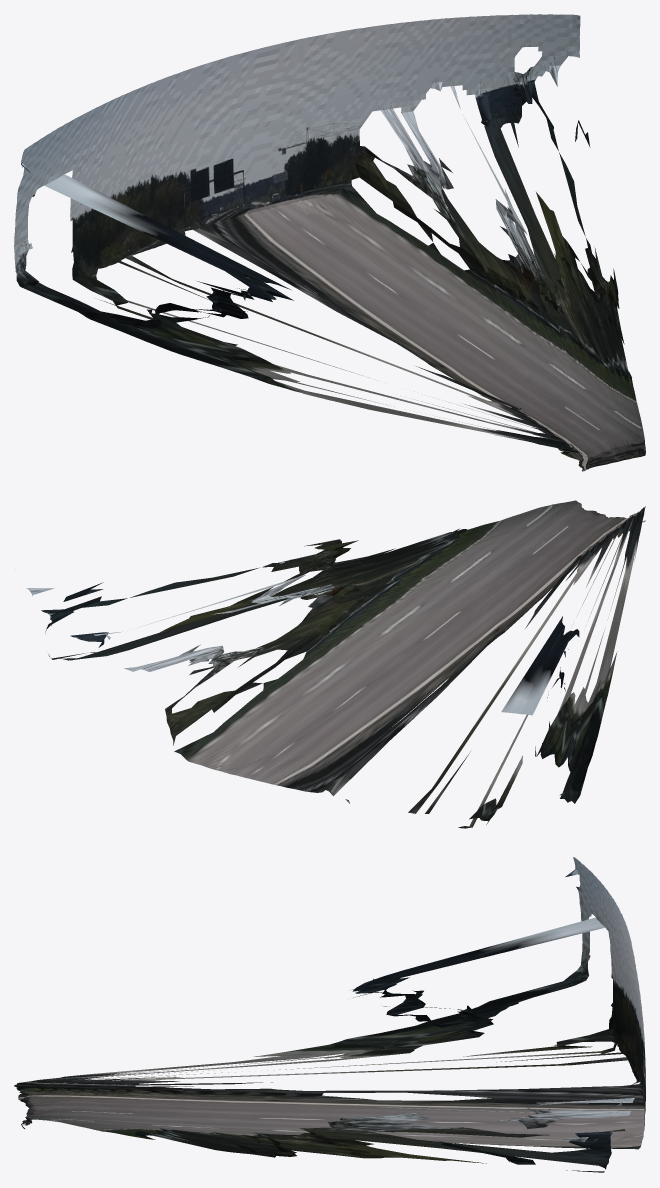
3 renders of one model, top to bottom at view 1: azimuth 30°, elevation 25°; view 2: azimuth 150°, elevation 25°; view 3: azimuth 270°, elevation 25°, orthographic. The views are drawn at different scales.
Visible parts, largest first — view 1: defaultobject; view 2: defaultobject; view 3: defaultobject.
Boxes of the visible parts, box(x1,y1,x2,y2) form: defaultobject: box(14, 14, 645, 471); defaultobject: box(26, 500, 645, 828); defaultobject: box(14, 857, 645, 1172).
Bounding box in the file's own units: 40.98 × 12.99 × 44.87.
Materials: 1 (1 with a texture image).
